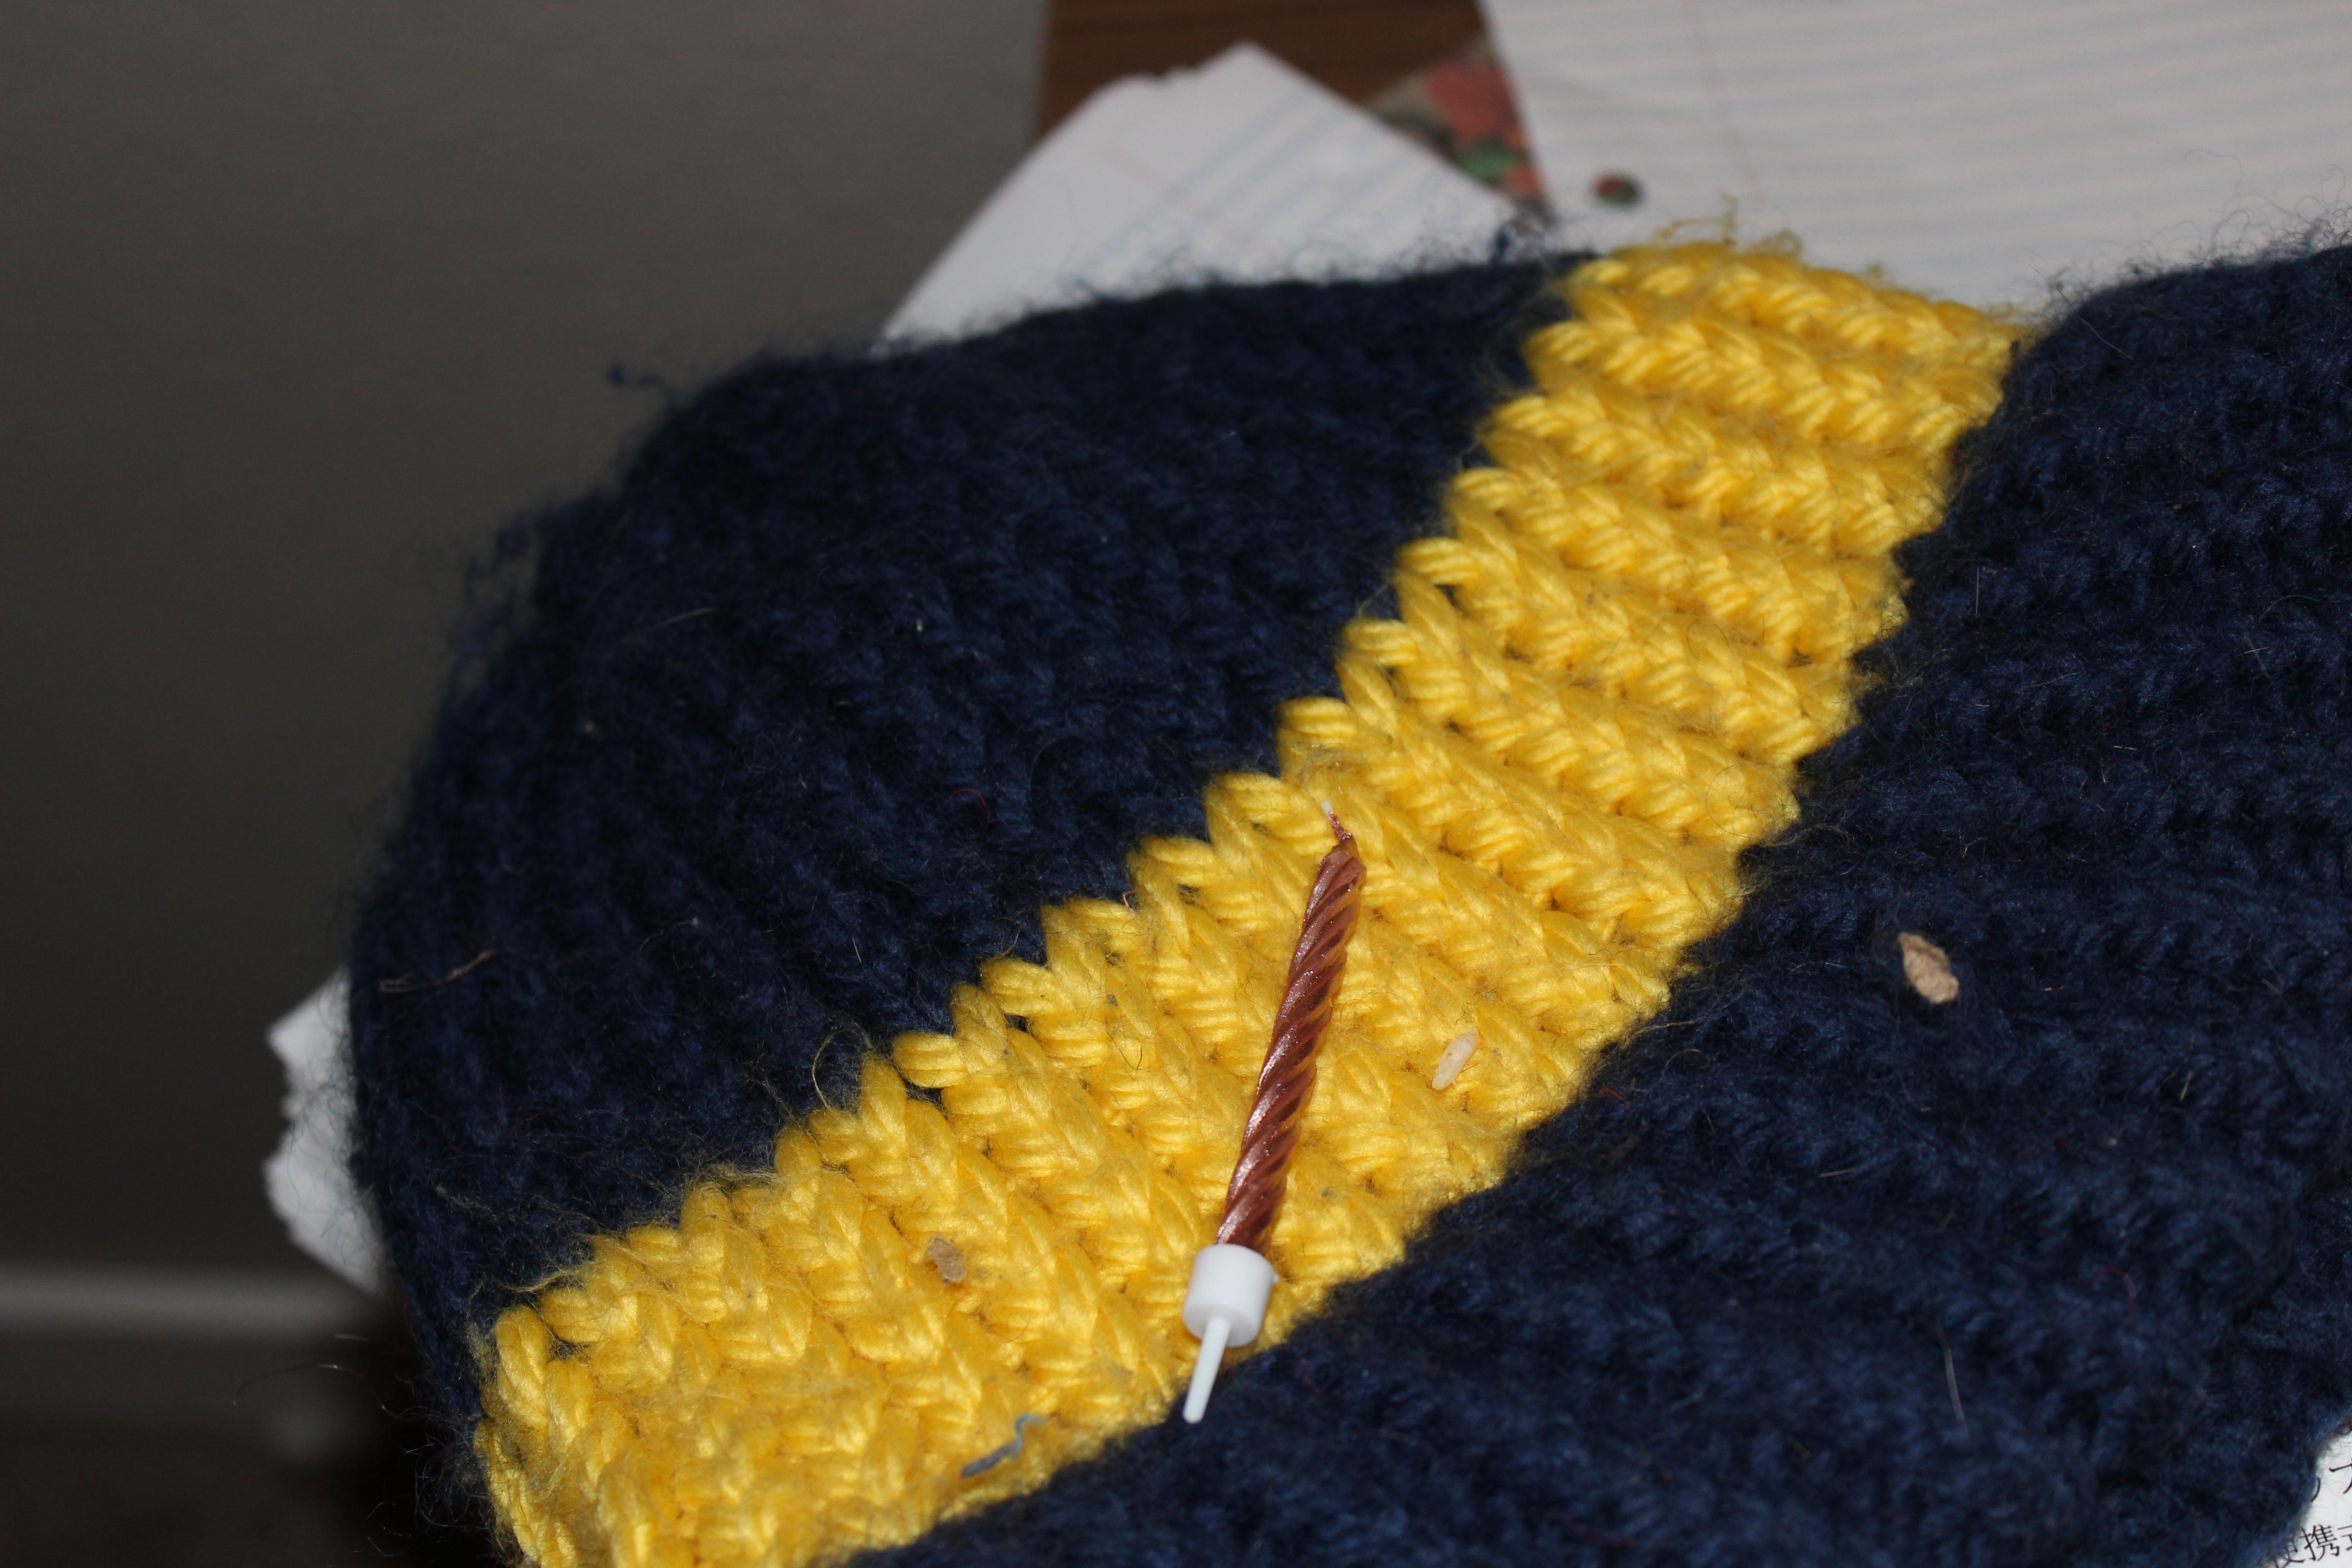pinkCandle: (1146, 802, 1426, 1449)
